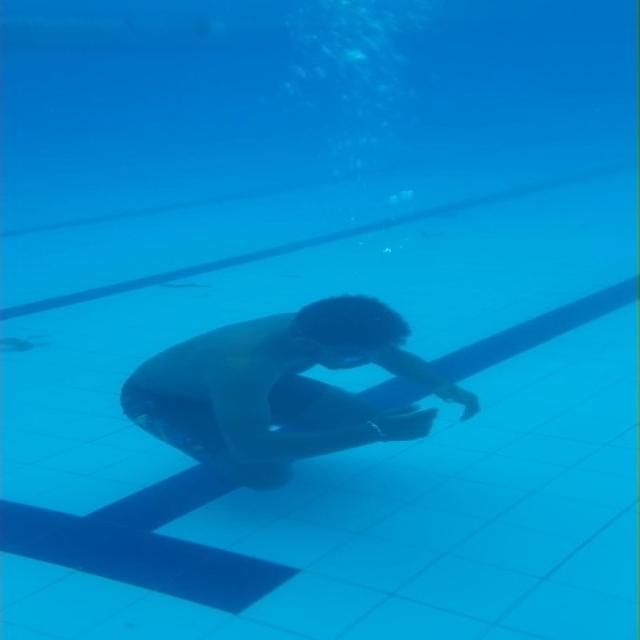Drowning: (115, 294, 489, 492)
